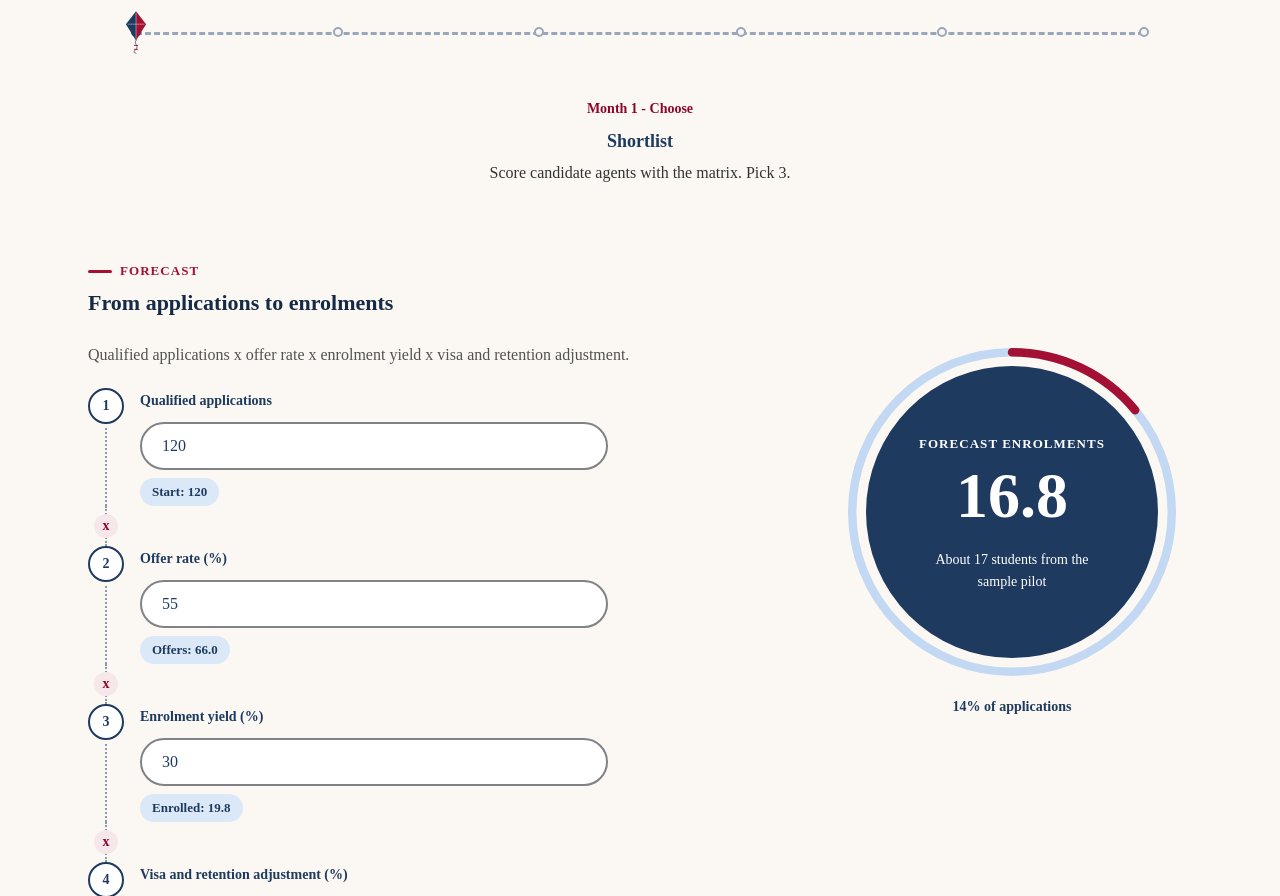
Test case: AgentStrategy › forecast › gives the progress ring a text equivalent that follows the inputs
(page scrolled)
expect the text "14% of applications" is shown: met, box [952,699,1072,714]
Clear the number field labelled "Qualified applications". click: x=374, y=446
box: [140,422,608,470]
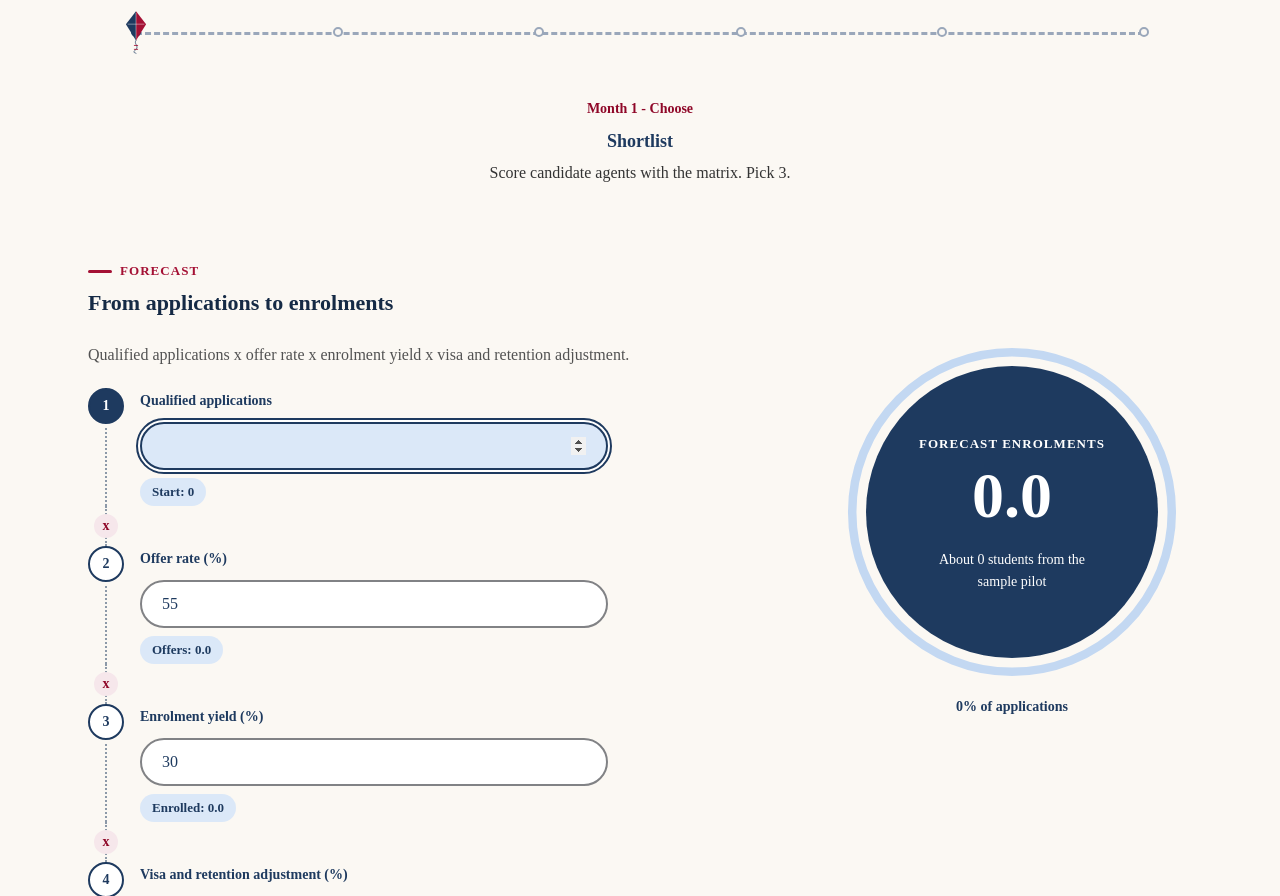
expect the text "0% of applications" is shown: met, box [956,699,1068,714]
